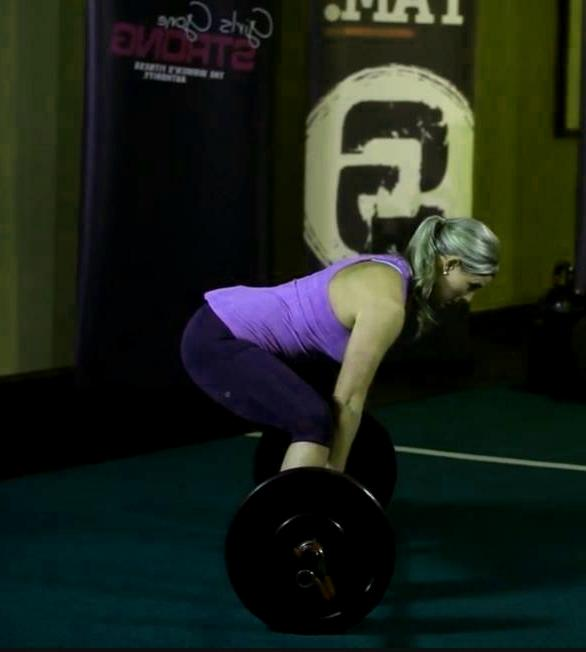Barbell: (293, 567, 317, 590)
